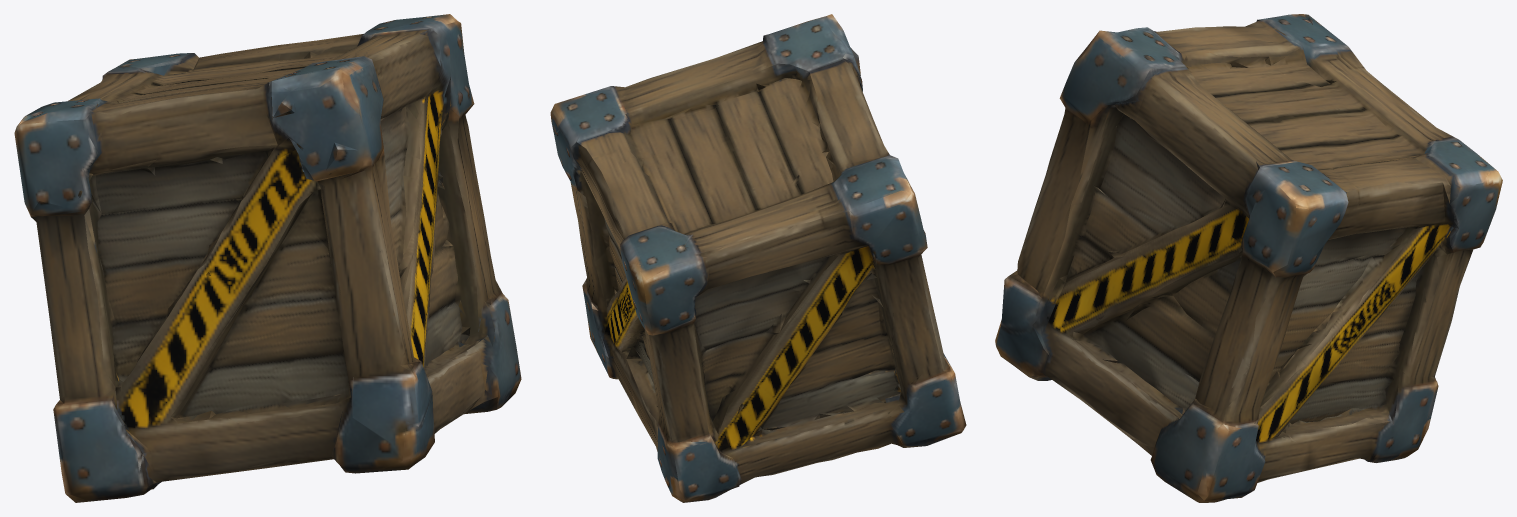
The model's file is stylized_wooden_cargo_crate_with_LOD1.glb.
3 renders of one model, left to right at view 1: azimuth 30°, elevation 25°; view 2: azimuth 150°, elevation 25°; view 3: azimuth 270°, elevation 25°, orthographic. The views are drawn at different scales.
Visible parts, largest first — view 1: stylized_wooden_cargo_crate_with_LOD1; view 2: stylized_wooden_cargo_crate_with_LOD1; view 3: stylized_wooden_cargo_crate_with_LOD1.
Part boxes in pixels (<box>): stylized_wooden_cargo_crate_with_LOD1: <box>14,14,521,502</box>; stylized_wooden_cargo_crate_with_LOD1: <box>550,14,966,502</box>; stylized_wooden_cargo_crate_with_LOD1: <box>995,14,1502,502</box>.
Bounding box in the file's own units: 1 × 1 × 1.09.
Materials: 1 (1 with a texture image).
